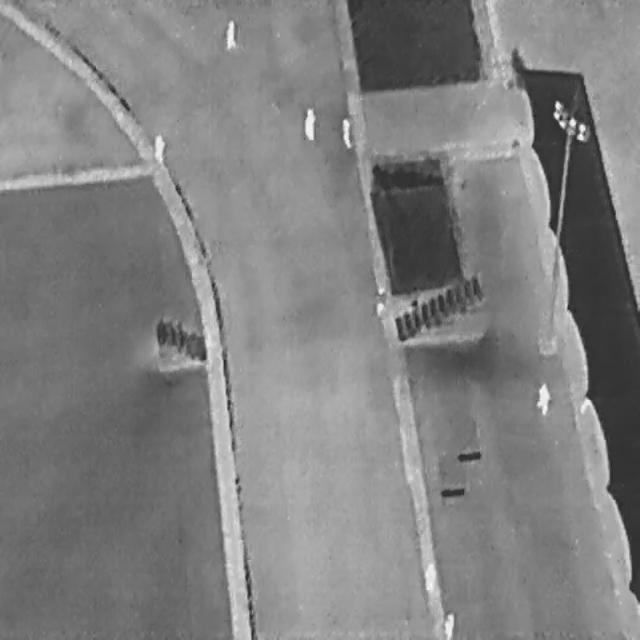Person: (222, 15, 238, 50), (300, 105, 315, 141), (535, 379, 550, 415), (372, 281, 385, 320), (339, 112, 353, 148), (421, 560, 436, 591), (150, 129, 164, 161), (441, 608, 455, 638)
